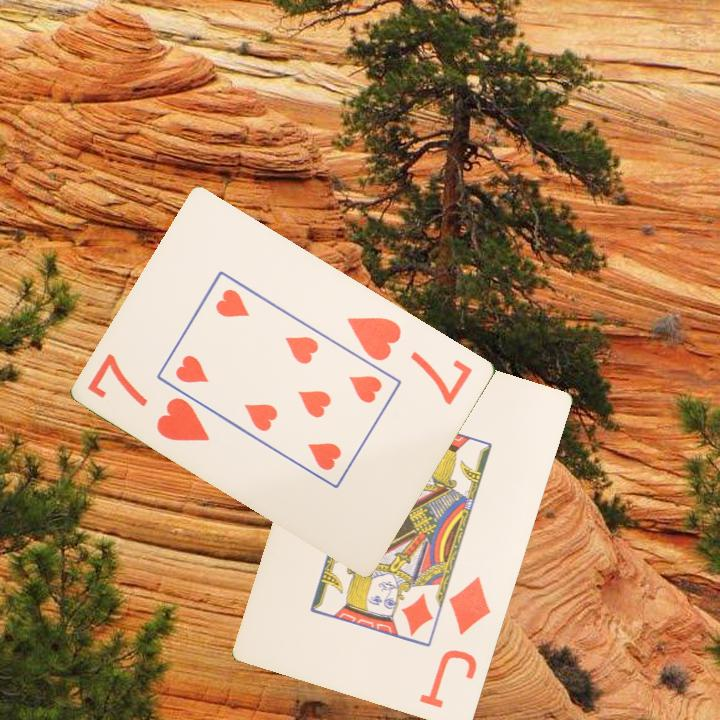7h: (343, 313, 476, 408), (84, 350, 213, 445)
Jd: (415, 573, 494, 712)
